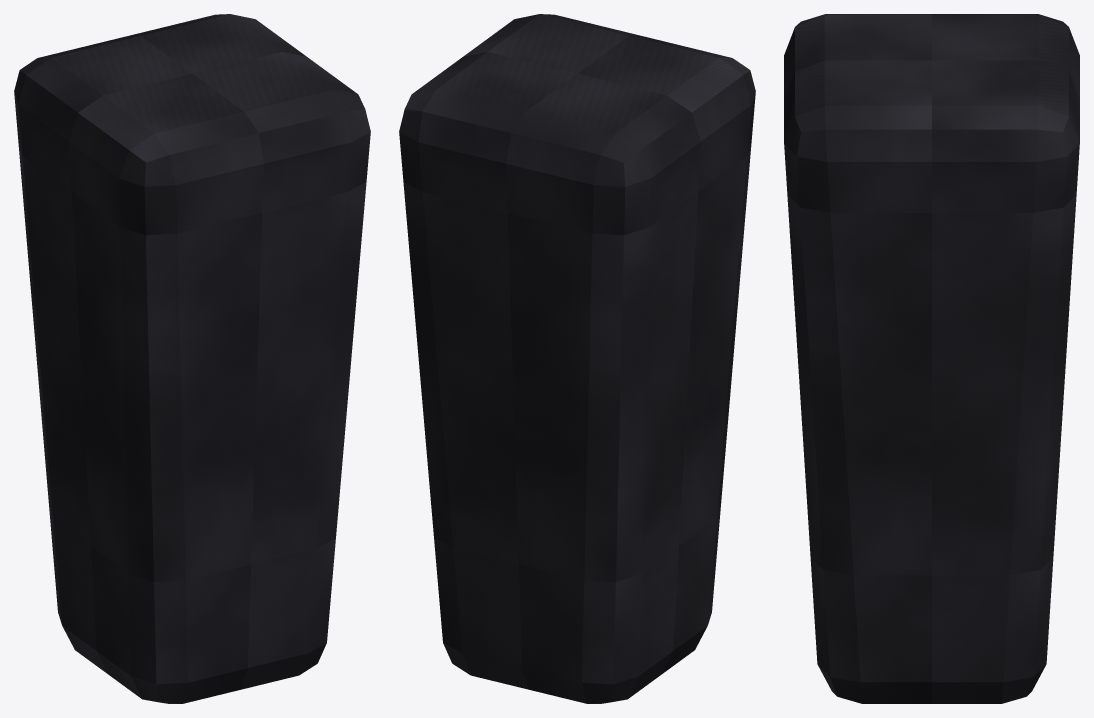
Rendered from Zombie_LegUpperL.obj.
3 renders of one model, left to right at view 1: azimuth 30°, elevation 25°; view 2: azimuth 150°, elevation 25°; view 3: azimuth 270°, elevation 25°, orthographic. The views are drawn at different scales.
Bounding box in the file's own units: 0.2057 × 0.47 × 0.2057.
1 material, 1 textured.
